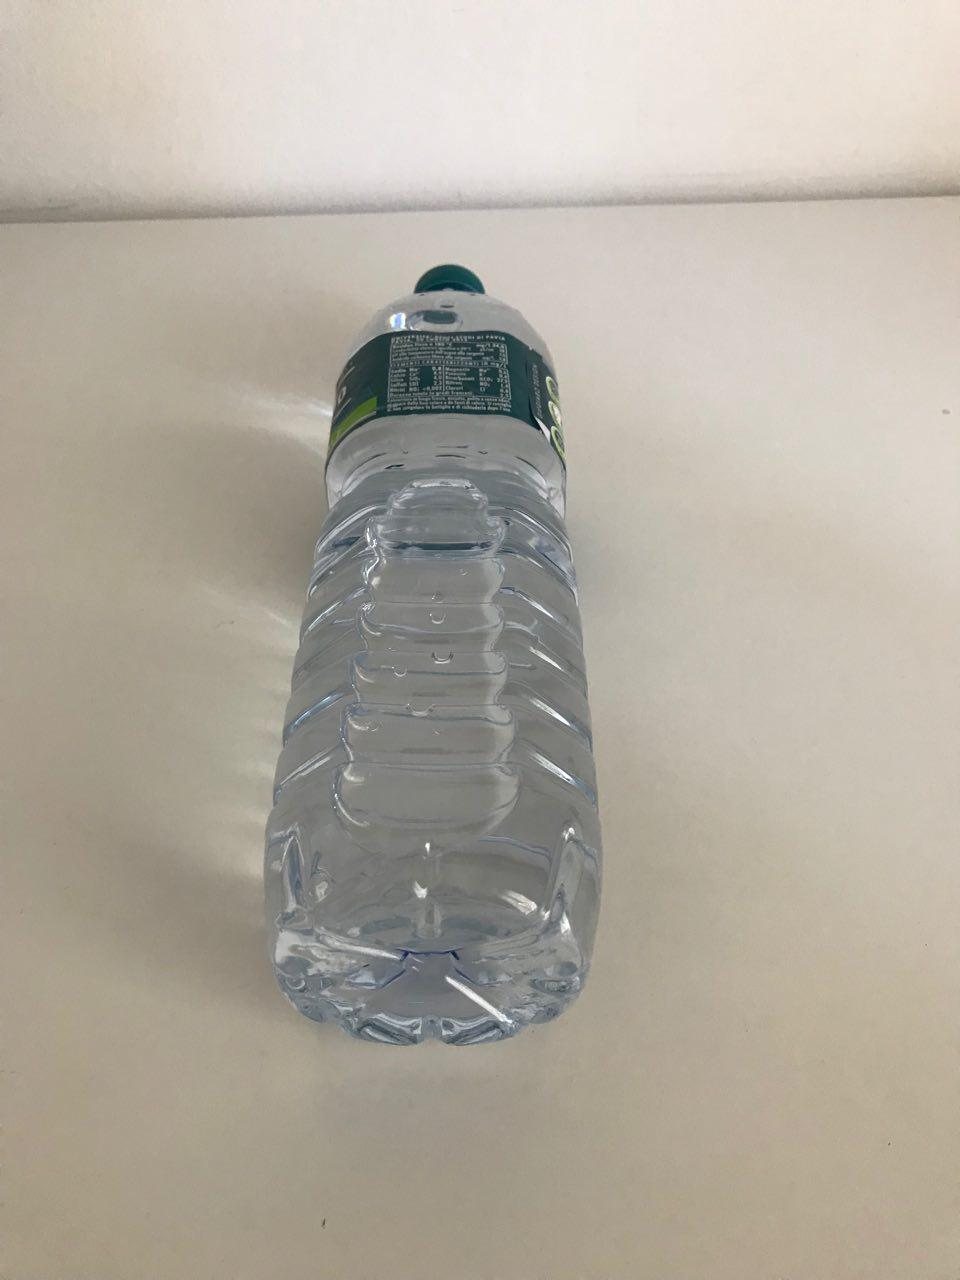san_bernardo: (258, 261, 606, 1048)
